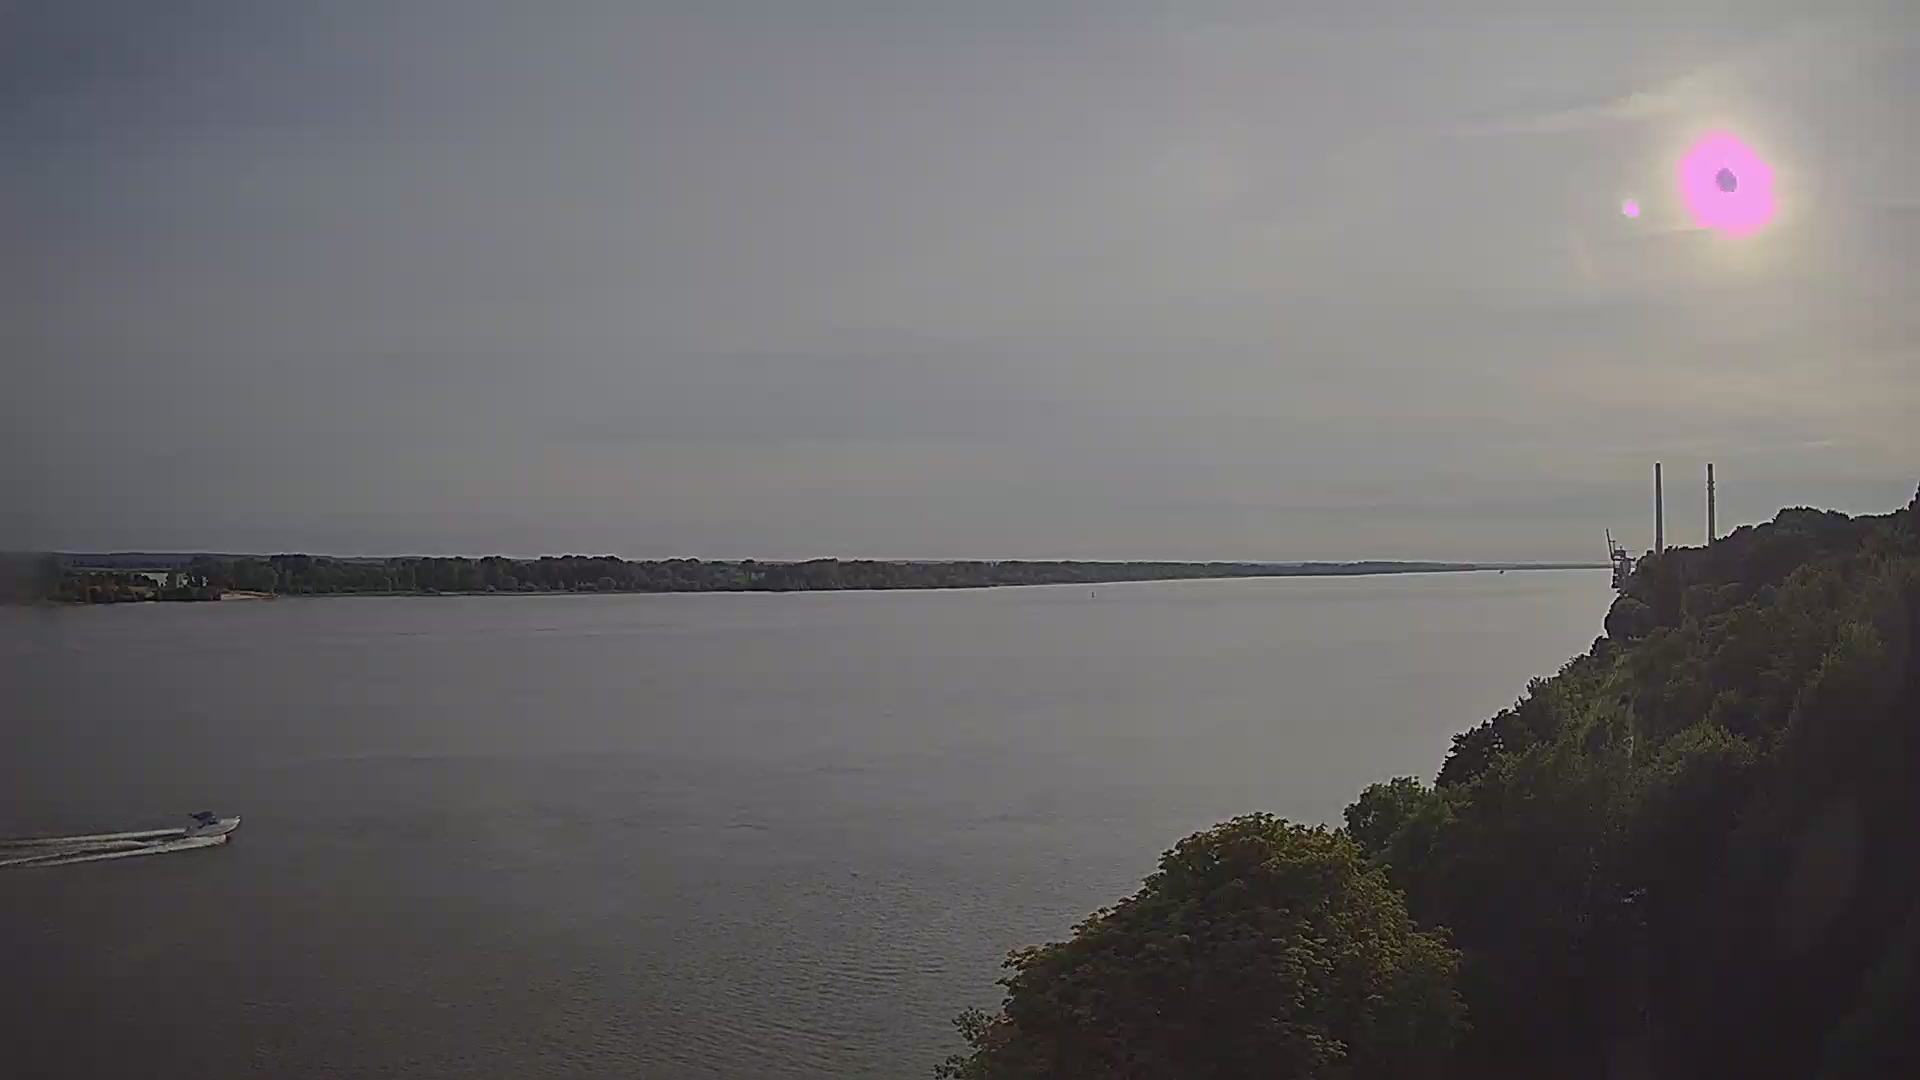sea: (182, 808, 240, 836), (1498, 568, 1505, 574)
